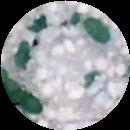Basil: (11, 86, 47, 115), (84, 19, 112, 41), (8, 42, 30, 70)
